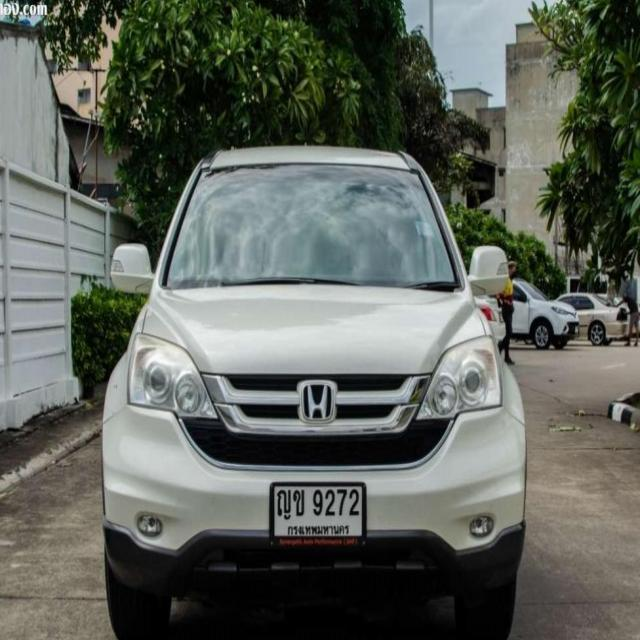license_plate: (267, 478, 367, 547)
